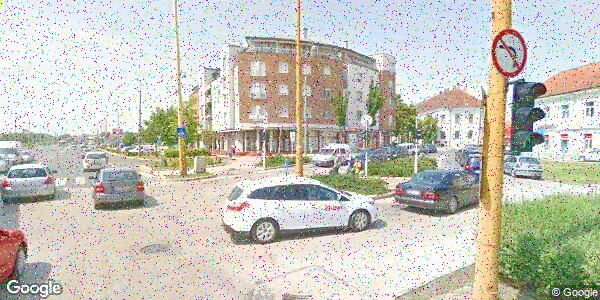a_no_turn: (491, 28, 528, 78)
